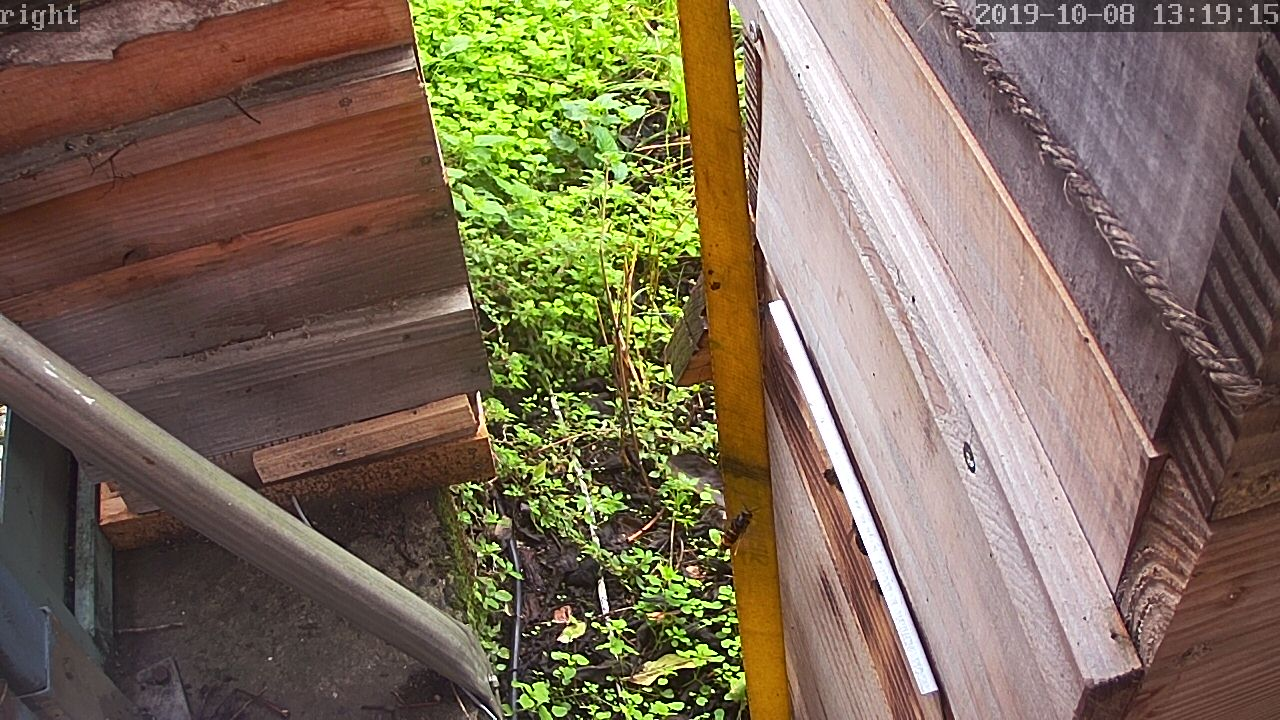bee: (814, 464, 842, 497), (848, 517, 870, 555), (864, 572, 887, 596)
hornet: (717, 503, 754, 554)
